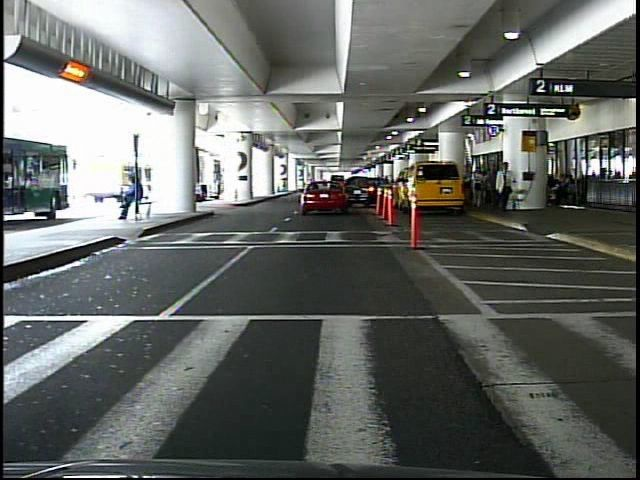person: (495, 162, 513, 211), (471, 165, 485, 210), (483, 166, 496, 213)
